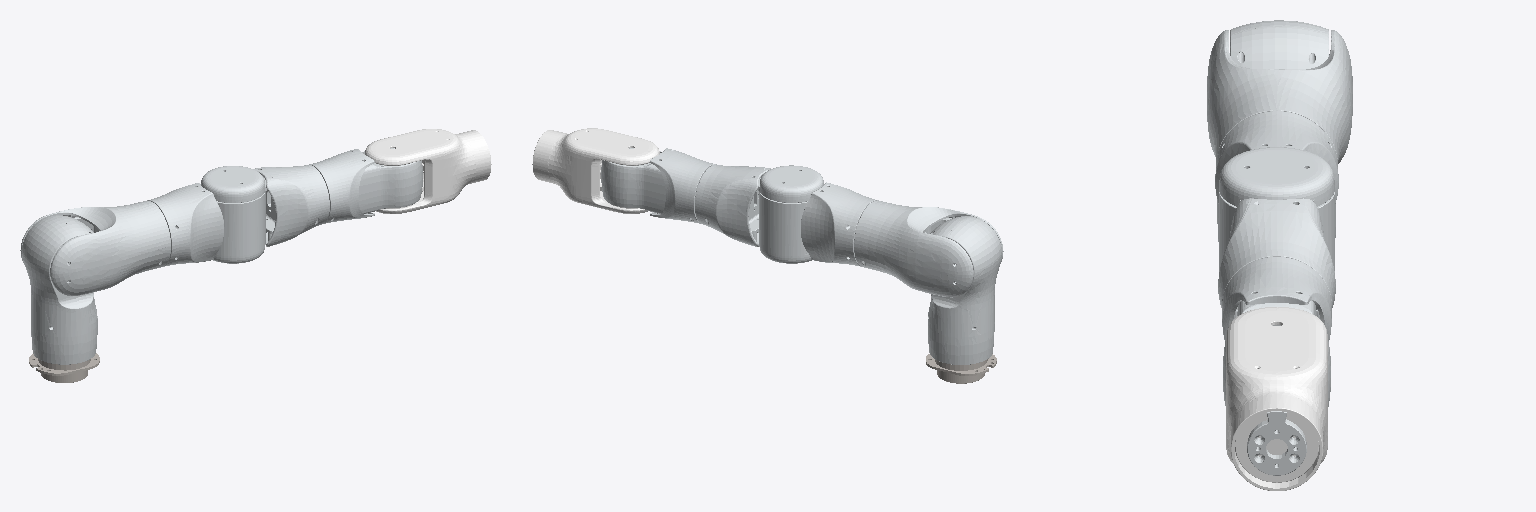
robot.urdf — a1_l_urdf:
<?xml version="1.0" encoding="utf-8"?>
<!-- This URDF was automatically created by SolidWorks to URDF Exporter! Originally created by Stephen Brawner (brawner@gmail.com)
     Commit Version: 1.6.0-4-g7f85cfe  Build Version: 1.6.7995.38578
     For more information, please see http://wiki.ros.org/sw_urdf_exporter -->
<robot
  name="a1_l_urdf">

<mujoco>
    <compiler meshdir="." balanceinertia="true" discardvisual="false" />
  </mujoco>

  <!-- 虚拟根link (KDL兼容性) -->
  <link name="world"/>

    <!-- 虚拟根关节 -->
  <joint name="world_to_base" type="fixed">
    <parent link="world"/>
    <child link="base_link"/>
    <origin xyz="0 0 0" rpy="0 0 0"/>
  </joint>

  <link
    name="base_link">
    <inertial>
      <origin
        xyz="2.12826196715557E-05 -5.52026218782097E-05 0.0171427754448579"
        rpy="0 0 0" />
      <mass
        value="0.401650168942009" />
      <inertia
        ixx="0.000237179758518644"
        ixy="1.22424408206913E-07"
        ixz="1.57836402935181E-07"
        iyy="0.000248236117612461"
        iyz="7.93541349379853E-07"
        izz="0.000305122605170233" />
    </inertial>
    <visual>
      <origin
        xyz="0 0 0"
        rpy="0 0 0" />
      <geometry>
        <mesh
          filename="./meshes/a1_l/base_link.STL" />
      </geometry>
      <material
        name="">
        <color
          rgba="0.776470588235294 0.756862745098039 0.737254901960784 1" />
      </material>
    </visual>
    <collision>
      <origin
        xyz="0 0 0"
        rpy="0 0 0" />
      <geometry>
        <mesh
          filename="./meshes/a1_l/base_link.STL" />
      </geometry>
    </collision>
  </link>
  <link
    name="Link1">
    <inertial>
      <origin
        xyz="-0.000104793909039569 0.000878025489583305 0.0937688680157419"
        rpy="0 0 0" />
      <mass
        value="0.438675872181416" />
      <inertia
        ixx="0.00060517294321352"
        ixy="3.1414337686272E-07"
        ixz="9.46425739217291E-07"
        iyy="0.000501491467720591"
        iyz="-3.30016145254686E-05"
        izz="0.00025580993277449" />
    </inertial>
    <visual>
      <origin
        xyz="0 0 0"
        rpy="0 0 0" />
      <geometry>
        <mesh
          filename="./meshes/a1_l/Link1.STL" />
      </geometry>
      <material
        name="">
        <color
          rgba="0.898039215686275 0.917647058823529 0.929411764705882 1" />
      </material>
    </visual>
    <collision>
      <origin
        xyz="0 0 0"
        rpy="0 0 0" />
      <geometry>
        <mesh
          filename="./meshes/a1_l/Link1.STL" />
      </geometry>
    </collision>
  </link>
  <joint
    name="joint1-a1_l"
    type="revolute">
    <origin
      xyz="0 0 0.0125"
      rpy="0 0 0" />
    <parent
      link="base_link" />
    <child
      link="Link1" />
    <axis
      xyz="0 0 1" />
    <limit
      lower="-3.14"
      upper="1.04"
      effort="15"
      velocity="30" />
  </joint>
  <link
    name="Link2">
    <inertial>
      <origin
        xyz="4.66303482215547E-05 -0.0610765811025605 0.00481122218899704"
        rpy="0 0 0" />
      <mass
        value="0.387770755219132" />
      <inertia
        ixx="0.000597204372907025"
        ixy="8.36763420077846E-07"
        ixz="-2.69873967501812E-08"
        iyy="0.000348292487571024"
        iyz="-2.93717934653094E-05"
        izz="0.000403661570691348" />
    </inertial>
    <visual>
      <origin
        xyz="0 0 0"
        rpy="0 0 0" />
      <geometry>
        <mesh
          filename="./meshes/a1_l/Link2.STL" />
      </geometry>
      <material
        name="">
        <color
          rgba="0.898039215686275 0.917647058823529 0.929411764705882 1" />
      </material>
    </visual>
    <collision>
      <origin
        xyz="0 0 0"
        rpy="0 0 0" />
      <geometry>
        <mesh
          filename="./meshes/a1_l/Link2.STL" />
      </geometry>
    </collision>
  </link>
  <joint
    name="joint2-a1_l"
    type="revolute">
    <origin
      xyz="0 0 0.12745"
      rpy="1.5708 -1.5708 0" />
    <parent
      link="Link1" />
    <child
      link="Link2" />
    <axis
      xyz="0 0 1" />
    <limit
      lower="-0.26"
      upper="3.14"
      effort="15"
      velocity="30" />
  </joint>
  <link
    name="Link3">
    <inertial>
      <origin
        xyz="1.43987309591522E-05 0.00178404133280441 0.109669668659996"
        rpy="0 0 0" />
      <mass
        value="0.407125793506889" />
      <inertia
        ixx="0.000446520666780017"
        ixy="-8.24275545731468E-09"
        ixz="1.61110520939152E-07"
        iyy="0.000343044757246363"
        iyz="-1.30123176926368E-05"
        izz="0.000286204871222088" />
    </inertial>
    <visual>
      <origin
        xyz="0 0 0"
        rpy="0 0 0" />
      <geometry>
        <mesh
          filename="./meshes/a1_l/Link3.STL" />
      </geometry>
      <material
        name="">
        <color
          rgba="0.898039215686275 0.917647058823529 0.929411764705882 1" />
      </material>
    </visual>
    <collision>
      <origin
        xyz="0 0 0"
        rpy="0 0 0" />
      <geometry>
        <mesh
          filename="./meshes/a1_l/Link3.STL" />
      </geometry>
    </collision>
  </link>
  <joint
    name="joint3-a1_l"
    type="revolute">
    <origin
      xyz="0 -0.09325 -0.0001"
      rpy="1.5708 -1.5708 0" />
    <parent
      link="Link2" />
    <child
      link="Link3" />
    <axis
      xyz="0 0 1" />
    <limit
      lower="-2.76"
      upper="2.76"
      effort="15"
      velocity="30" />
  </joint>
  <link
    name="Link4">
    <inertial>
      <origin
        xyz="-9.99808131922311E-07 0.0625047132640995 0.00555704355349793"
        rpy="0 0 0" />
      <mass
        value="0.252142897202372" />
      <inertia
        ixx="0.000178779070280237"
        ixy="-6.97346977234495E-09"
        ixz="-7.78451594087313E-10"
        iyy="0.000146134678616042"
        iyz="3.30147349592292E-05"
        izz="0.000165597697680657" />
    </inertial>
    <visual>
      <origin
        xyz="0 0 0"
        rpy="0 0 0" />
      <geometry>
        <mesh
          filename="./meshes/a1_l/Link4.STL" />
      </geometry>
      <material
        name="">
        <color
          rgba="0.898039215686275 0.917647058823529 0.929411764705882 1" />
      </material>
    </visual>
    <collision>
      <origin
        xyz="0 0 0"
        rpy="0 0 0" />
      <geometry>
        <mesh
          filename="./meshes/a1_l/Link4.STL" />
      </geometry>
    </collision>
  </link>
  <joint
    name="joint4-a1_l"
    type="revolute">
    <origin
      xyz="0 -0.000999999996676215 0.140249999995695"
      rpy="1.57079632678358 0 6.73358220455809E-05" />
    <parent
      link="Link3" />
    <child
      link="Link4" />
    <axis
      xyz="0 0 1" />
    <limit
      lower="-1.92"
      upper="1.92"
      effort="3"
      velocity="30" />
  </joint>
  <link
    name="Link5">
    <inertial>
      <origin
        xyz="2.1819607269304E-06 0.000940045309240356 0.0983077176130554"
        rpy="0 0 0" />
      <mass
        value="0.333953527048094" />
      <inertia
        ixx="0.000324219442352689"
        ixy="-1.17918294445498E-09"
        ixz="-7.21118252231978E-08"
        iyy="0.000299078218859742"
        iyz="5.7924183985276E-06"
        izz="0.000161241194938864" />
    </inertial>
    <visual>
      <origin
        xyz="0 0 0"
        rpy="0 0 0" />
      <geometry>
        <mesh
          filename="./meshes/a1_l/Link5.STL" />
      </geometry>
      <material
        name="">
        <color
          rgba="0.898039215686275 0.917647058823529 0.929411764705882 1" />
      </material>
    </visual>
    <collision>
      <origin
        xyz="0 0 0"
        rpy="0 0 0" />
      <geometry>
        <mesh
          filename="./meshes/a1_l/Link5.STL" />
      </geometry>
    </collision>
  </link>
  <joint
    name="joint5-a1_l"
    type="revolute">
    <origin
      xyz="0 0.08800000000195 -0.00100000000141642"
      rpy="-1.57079632679444 0 0" />
    <parent
      link="Link4" />
    <child
      link="Link5" />
    <axis
      xyz="0 0 1" />
    <limit
      lower="-2.23"
      upper="2.23"
      effort="3"
      velocity="30" />
  </joint>
  <link
    name="Link6">
    <inertial>
      <origin
        xyz="-1.41083567195476E-05 -0.0616500007920044 0.00592126579182656"
        rpy="0 0 0" />
      <mass
        value="0.289938784061927" />
      <inertia
        ixx="0.000346578289881221"
        ixy="-3.69413578027761E-07"
        ixz="1.71707534440891E-07"
        iyy="0.000183154957217547"
        iyz="-3.25615026642568E-05"
        izz="0.000268358636952706" />
    </inertial>
    <visual>
      <origin
        xyz="0 0 0"
        rpy="0 0 0" />
      <geometry>
        <mesh
          filename="./meshes/a1_l/Link6.STL" />
      </geometry>
      <material
        name="">
        <color
          rgba="1 1 1 1" />
      </material>
    </visual>
    <collision>
      <origin
        xyz="0 0 0"
        rpy="0 0 0" />
      <geometry>
        <mesh
          filename="./meshes/a1_l/Link6.STL" />
      </geometry>
    </collision>
  </link>
  <joint
    name="joint6-a1_l"
    type="revolute">
    <origin
      xyz="0 0.0005 0.133"
      rpy="-1.5708 0 0" />
    <parent
      link="Link5" />
    <child
      link="Link6" />
    <axis
      xyz="0 0 1" />
    <limit
      lower="-1.57"
      upper="1.57"
      effort="3"
      velocity="30" />
  </joint>
  <link
    name="Link7">
    <inertial>
      <!-- v1 placeholder: mass=0.20 kg (real flange assembly weighs 150-250 g
           depending on end-effector; the CAD export lists 17.8 g which is
           mesh-only and drives adaptive kp to zero for joint 7). Inertia
           scaled linearly (11.27x) from the original CAD-export values.
           TODO: replace with measured flange mass + identified inertia. -->
      <origin
        xyz="-1.47613369245068E-07 -0.00220208936053254 0.00293052049190767"
        rpy="0 0 0" />
      <mass
        value="0.20" />
      <inertia
        ixx="3.17582E-05"
        ixy="-7.00790E-10"
        ixz="1.46490E-12"
        iyy="2.13489E-05"
        iyz="2.51150E-08"
        izz="5.19434E-05" />
    </inertial>
    <visual>
      <origin
        xyz="0 0 0"
        rpy="0 0 0" />
      <geometry>
        <mesh
          filename="./meshes/a1_l/Link7.STL" />
      </geometry>
      <material
        name="">
        <color
          rgba="0.898039215686275 0.917647058823529 0.929411764705882 1" />
      </material>
    </visual>
    <collision>
      <origin
        xyz="0 0 0"
        rpy="0 0 0" />
      <geometry>
        <mesh
          filename="./meshes/a1_l/Link7.STL" />
      </geometry>
    </collision>
  </link>
  <joint
    name="joint7-a1_l"
    type="revolute">
    <origin
      xyz="0 -0.112 0.00025"
      rpy="1.5708 0 0" />
    <parent
      link="Link6" />
    <child
      link="Link7" />
    <axis
      xyz="0 0 1" />
    <limit
      lower="-2.76"
      upper="2.76"
      effort="3"
      velocity="30" />
  </joint>
</robot>

--- Facts derived from the render (not from the file) ---
Views: 3 orthographic renders of the robot side by side, from view 1: azimuth 30°, elevation 25°; view 2: azimuth 150°, elevation 25°; view 3: azimuth 270°, elevation 25°.
Model a1_l_urdf with 9 links and 8 joints (7 revolute, 1 fixed), rooted at world, posed every joint at zero.
Links seen in each view (by area): view 1: Link2, Link1, Link3, Link4, Link6, Link5, base_link; view 2: Link2, Link1, Link3, Link4, Link6, Link5, base_link; view 3: Link6, Link4, Link2, Link5, Link3, Link1, Link7.
Boxes of the visible links, <box> form: Link2: <box>20,201,170,295</box>; Link1: <box>22,215,97,364</box>; Link3: <box>147,183,265,266</box>; Link4: <box>201,165,329,246</box>; Link6: <box>365,129,491,213</box>; Link5: <box>309,148,422,223</box>; base_link: <box>29,353,99,382</box>; Link2: <box>854,200,1003,297</box>; Link1: <box>928,216,1001,364</box>; Link3: <box>759,182,876,266</box>; Link4: <box>695,164,823,246</box>; Link6: <box>532,128,659,213</box>; Link5: <box>601,148,715,223</box>; base_link: <box>926,354,996,383</box>; Link6: <box>1226,307,1327,490</box>; Link4: <box>1218,147,1335,307</box>; Link2: <box>1207,30,1352,163</box>; Link5: <box>1222,257,1331,406</box>; Link3: <box>1215,111,1338,271</box>; Link1: <box>1217,20,1335,241</box>; Link7: <box>1247,411,1306,475</box>.
Bounding box of the posed robot: 0.6188 × 0.0979 × 0.2056 m (x, y, z).
8 mesh visuals loaded from 8 distinct referenced files (8 binary STL).
